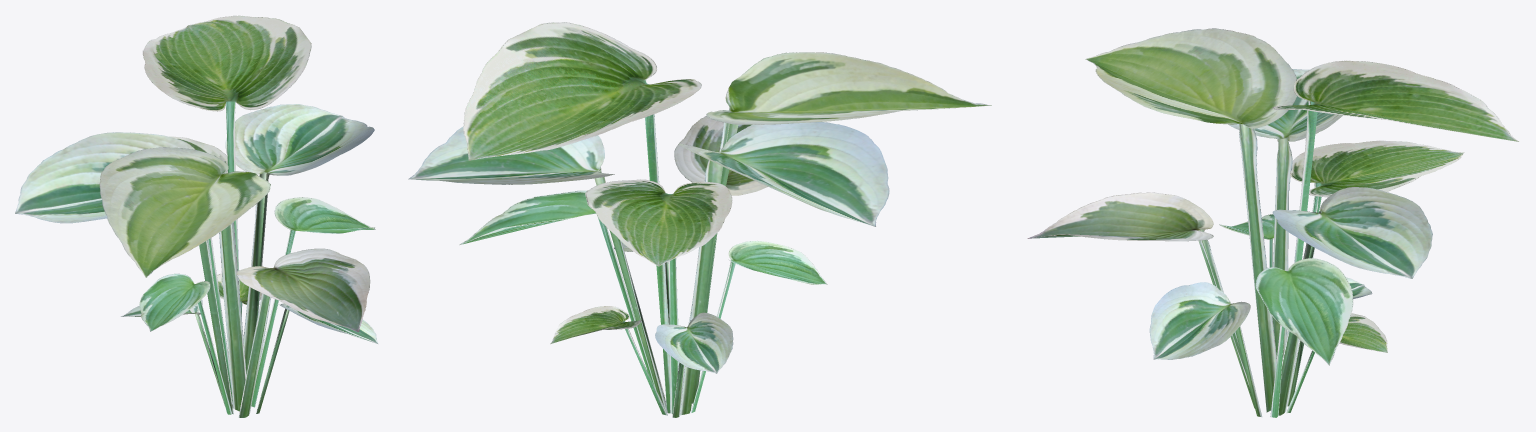
File: plant_small_wg_00C.fbx
The picture shows the model from 3 angles, left to right: view 1: azimuth 30°, elevation 25°; view 2: azimuth 150°, elevation 25°; view 3: azimuth 270°, elevation 25°; orthographic projection. The views are drawn at different scales.
Parts seen in each view (by area): view 1: plant_small_wg_00C; view 2: plant_small_wg_00C; view 3: plant_small_wg_00C.
Part boxes in pixels (x1,y1,x2,y2): plant_small_wg_00C: (15,15,377,417); plant_small_wg_00C: (408,22,991,417); plant_small_wg_00C: (1027,28,1518,417).
Size of the model in its own units: 51.48 by 43.86 by 56.81.
1 material, 1 textured.
